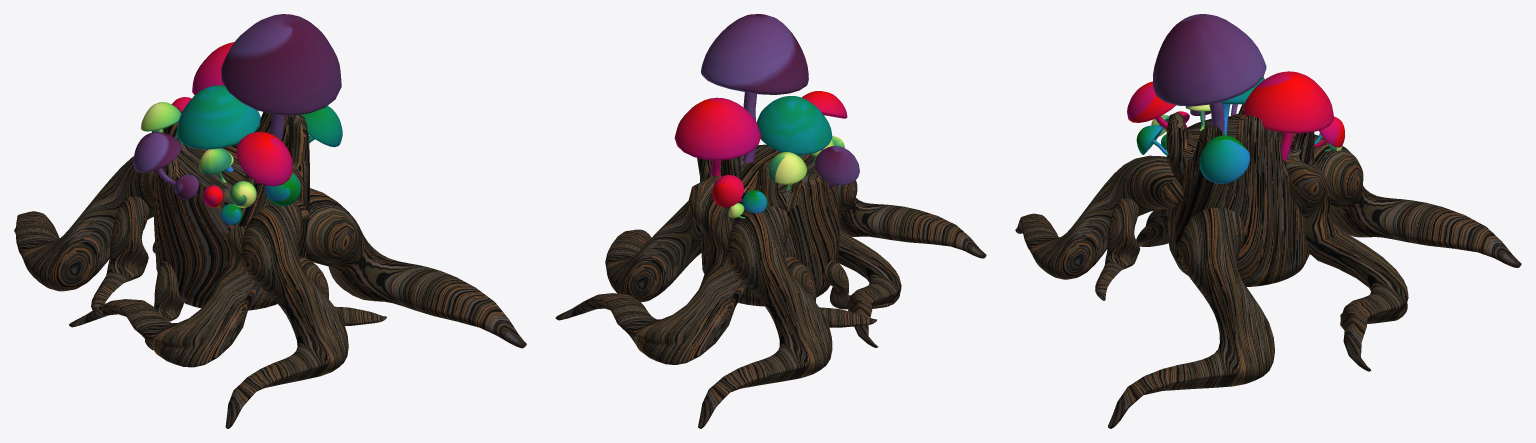
File: mushroomtest1.fbx
3 views of the same model, side by side, from view 1: azimuth 30°, elevation 25°; view 2: azimuth 150°, elevation 25°; view 3: azimuth 270°, elevation 25° (orthographic). The views are drawn at different scales.
Parts seen in each view (by area): view 1: pCylinder9, pCylinder3, pCylinder7, polySurface2, pSphere17, pSphere16, pSphere4, pSphere15, polySurface1, pSphere5, pSphere2, pSphere14 (+4 smaller); view 2: pCylinder7, pCylinder9, pCylinder3, pSphere17, polySurface2, pSphere2, pSphere16, pSphere15, pSphere14, polySurface1, pSphere3, pSphere4 (+1 smaller); view 3: pCylinder7, pCylinder3, polySurface2, pCylinder9, pSphere17, pSphere2, pSphere5, pSphere4, pSphere22, pSphere3.
Part boxes in pixels (<box>): pCylinder9: <box>69,200,386,428</box>; pCylinder3: <box>154,108,309,310</box>; pCylinder7: <box>14,156,155,317</box>; polySurface2: <box>306,188,526,348</box>; pSphere17: <box>221,14,341,140</box>; pSphere16: <box>176,85,260,172</box>; pSphere4: <box>236,132,292,186</box>; pSphere15: <box>133,132,180,186</box>; polySurface1: <box>145,261,183,350</box>; pSphere5: <box>301,105,342,147</box>; pSphere2: <box>192,42,234,95</box>; pSphere14: <box>141,102,181,132</box>; pCylinder7: <box>555,174,876,428</box>; pCylinder9: <box>837,180,986,347</box>; pCylinder3: <box>697,144,839,306</box>; pSphere17: <box>701,14,808,162</box>; polySurface2: <box>605,201,701,302</box>; pSphere2: <box>674,97,760,176</box>; pSphere16: <box>756,96,832,157</box>; pSphere15: <box>814,146,859,188</box>; pSphere14: <box>768,152,807,190</box>; polySurface1: <box>823,259,892,309</box>; pSphere3: <box>712,175,743,207</box>; pSphere4: <box>802,91,847,118</box>; pCylinder7: <box>1285,134,1521,371</box>; pCylinder3: <box>1166,104,1314,286</box>; polySurface2: <box>1108,207,1274,428</box>; pCylinder9: <box>1015,155,1183,300</box>; pSphere17: <box>1153,14,1266,135</box>; pSphere2: <box>1243,71,1333,161</box>; pSphere5: <box>1199,135,1249,183</box>; pSphere4: <box>1127,81,1176,129</box>; pSphere22: <box>1136,125,1168,155</box>; pSphere3: <box>1314,116,1344,147</box>.
Size of the model in its own units: 30.21 by 26.69 by 37.91.
